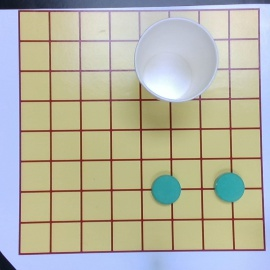cup: (134, 17, 217, 102)
green: (150, 174, 182, 204), (216, 173, 245, 203)
